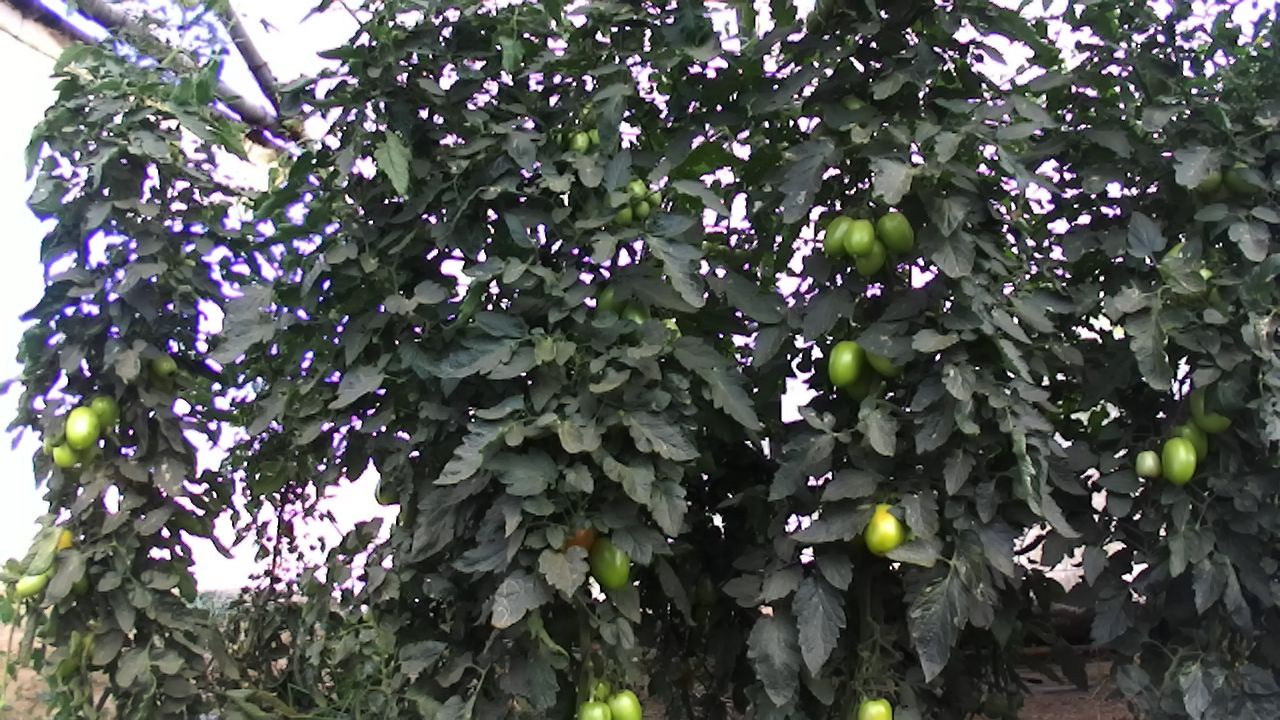tomato: (862, 499, 909, 559), (586, 533, 631, 591), (1187, 382, 1233, 436), (827, 336, 865, 390), (1159, 434, 1198, 485), (1168, 419, 1211, 465), (875, 211, 916, 256), (64, 404, 101, 452), (821, 212, 853, 260), (842, 218, 876, 258), (13, 567, 49, 601), (608, 686, 644, 720), (91, 392, 121, 428), (855, 695, 895, 720), (51, 436, 80, 470), (148, 350, 179, 380), (1135, 448, 1162, 481), (574, 699, 615, 720)
